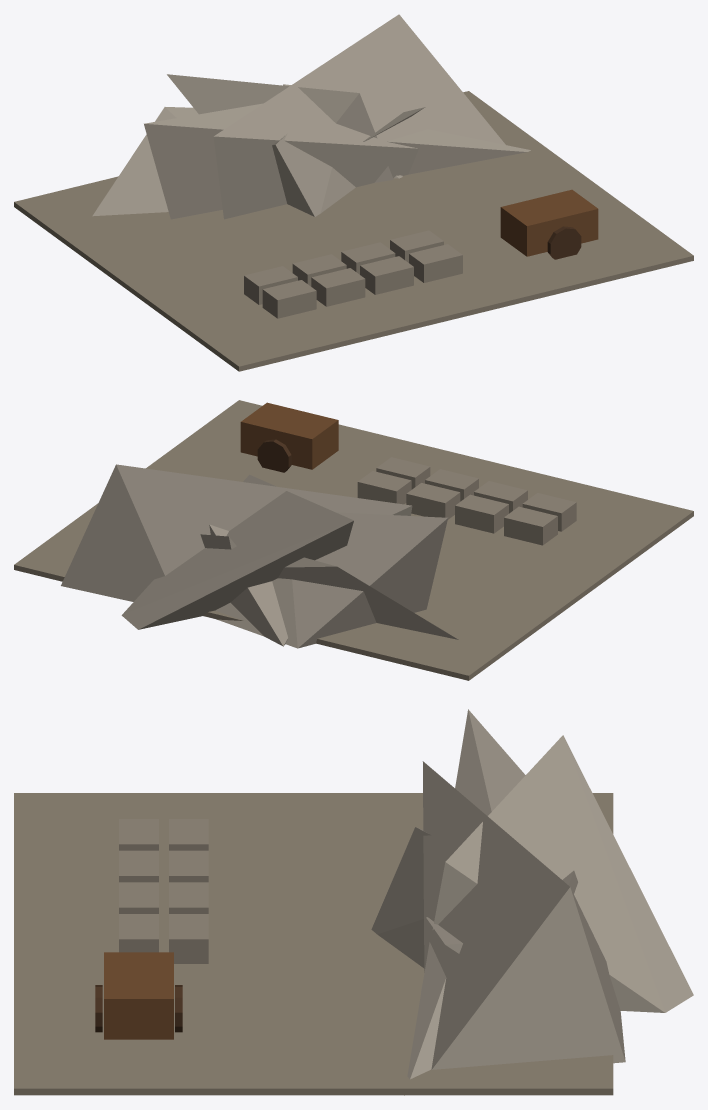
The model's file is quarry.glb.
3 renders of one model, top to bottom at view 1: azimuth 30°, elevation 25°; view 2: azimuth 150°, elevation 25°; view 3: azimuth 270°, elevation 25°, orthographic. The views are drawn at different scales.
Parts seen in each view (by area): view 1: Quarry; view 2: Quarry; view 3: Quarry.
Part boxes in pixels (box(x1,y1,x2,y2)): Quarry: box(14, 14, 693, 371); Quarry: box(14, 400, 693, 680); Quarry: box(14, 709, 693, 1095).
Size of the model in its own units: 14.01 by 3.38 by 13.61.
